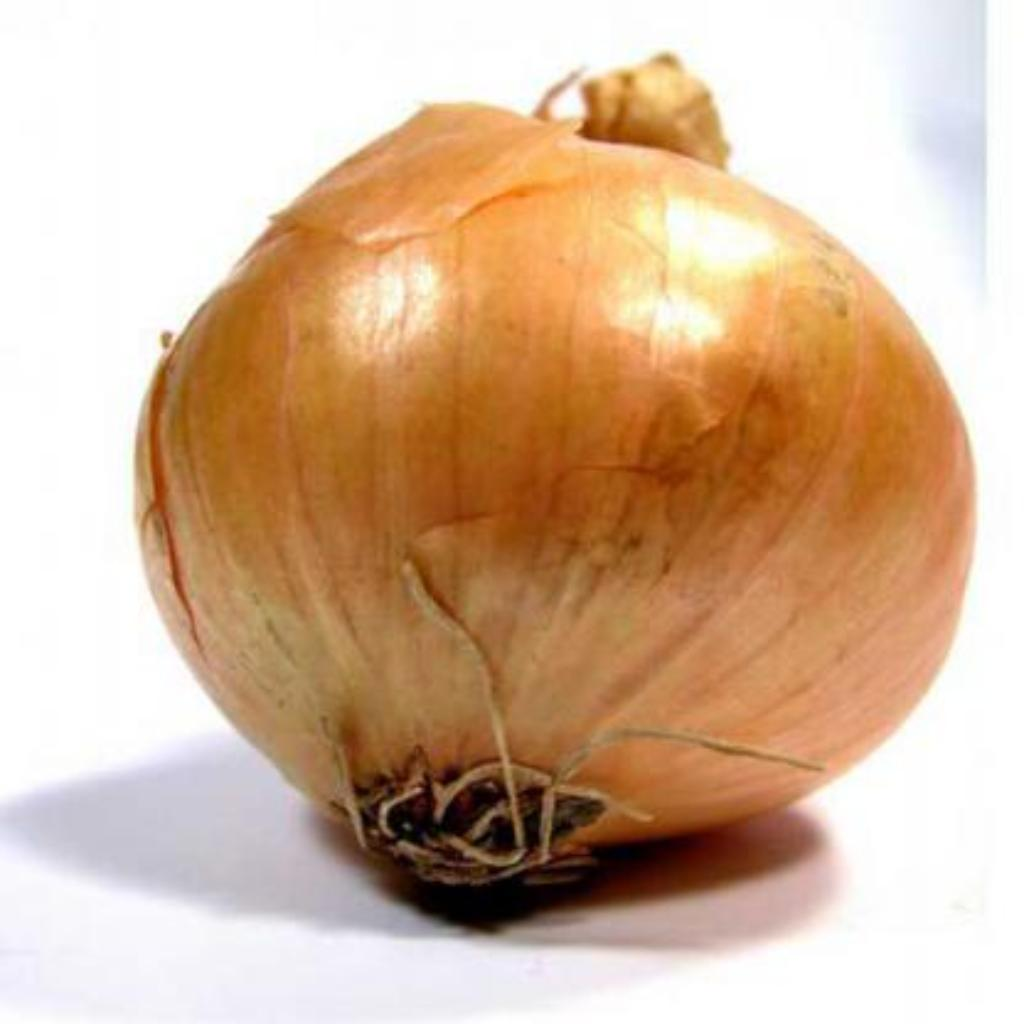Onion: (135, 57, 977, 887)
